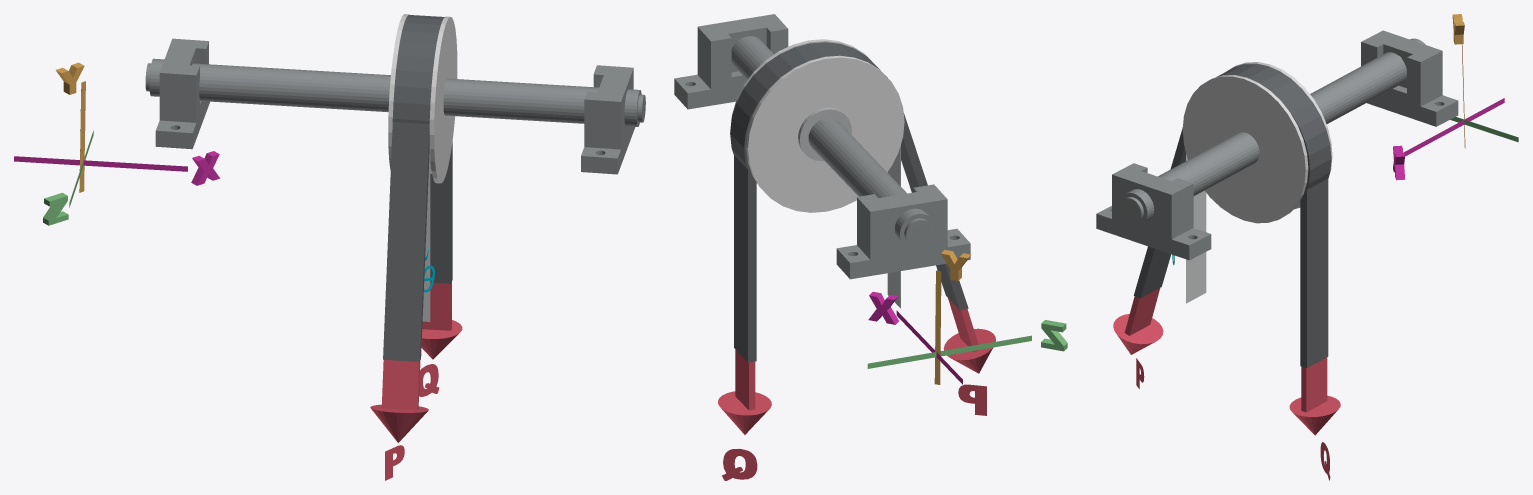
Rendered from U2_PulleySingle.glb.
The picture shows the model from 3 angles, left to right: view 1: azimuth 30°, elevation 25°; view 2: azimuth 150°, elevation 25°; view 3: azimuth 270°, elevation 25°; orthographic projection. The views are drawn at different scales.
Visible parts, largest first — view 1: Mesh_Mesh_head_geo.001_lambert2SG.001; view 2: Mesh_Mesh_head_geo.001_lambert2SG.001; view 3: Mesh_Mesh_head_geo.001_lambert2SG.001.
Boxes of the visible parts, x1,y1,x2,y2 form: Mesh_Mesh_head_geo.001_lambert2SG.001: (14, 14, 645, 480); Mesh_Mesh_head_geo.001_lambert2SG.001: (674, 14, 1067, 480); Mesh_Mesh_head_geo.001_lambert2SG.001: (1096, 14, 1518, 480).
Bounding box in the file's own units: 30.59 × 24.56 × 24.43.
